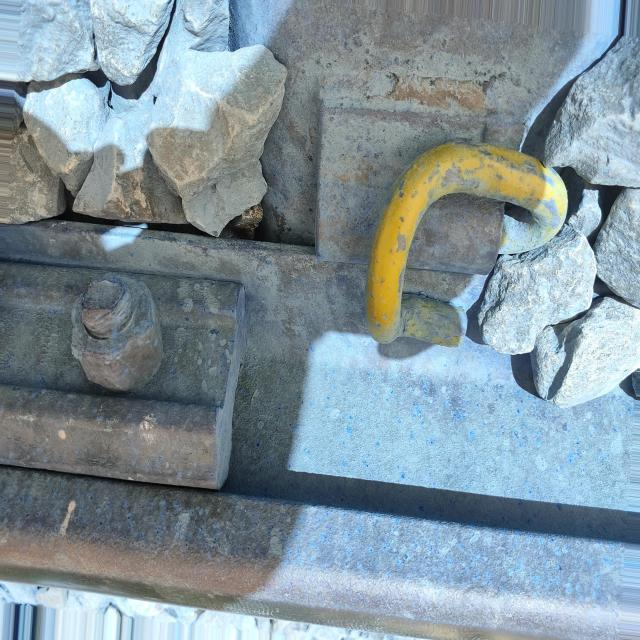Good Fasteners: (316, 105, 567, 346)
